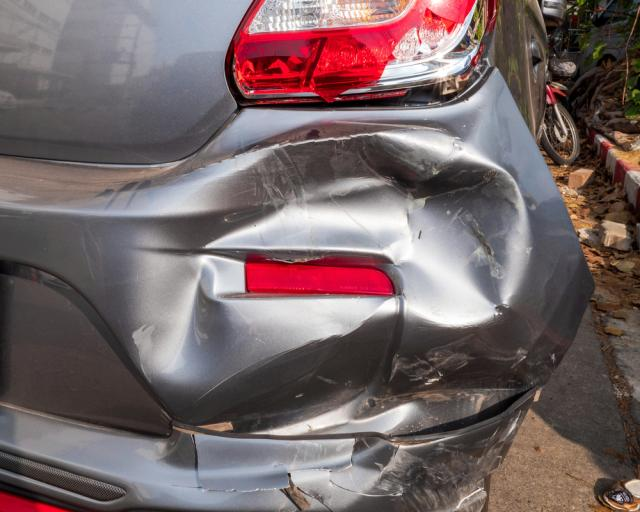crack: (172, 434, 378, 512), (393, 387, 533, 439)
dent: (127, 137, 524, 380)
lamp broken: (230, 0, 503, 103)
scratch: (376, 422, 513, 512)
